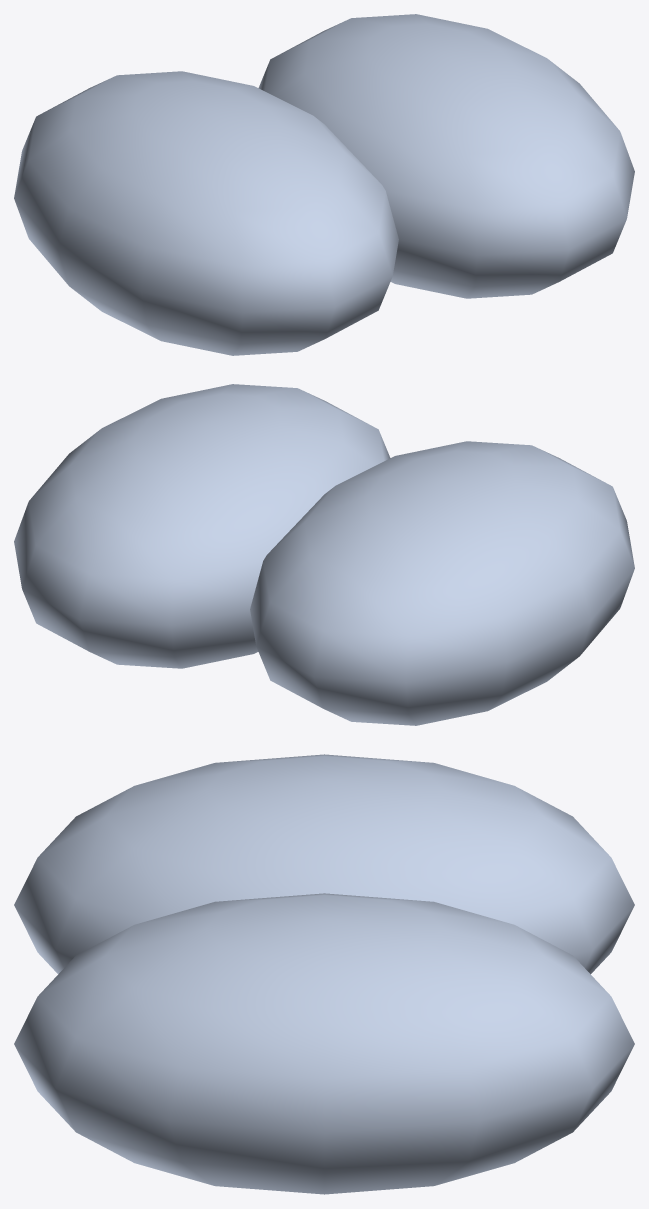
The model's file is footwear-chibi-02.glb.
The picture shows the model from 3 angles, top to bottom: view 1: azimuth 30°, elevation 25°; view 2: azimuth 150°, elevation 25°; view 3: azimuth 270°, elevation 25°; orthographic projection. The views are drawn at different scales.
Parts seen in each view (by area): view 1: part_0, part_1; view 2: part_0, part_1; view 3: part_1, part_0.
Part boxes in pixels (<box>): part_0: <box>14,71,398,355</box>; part_1: <box>258,14,634,298</box>; part_0: <box>250,441,634,725</box>; part_1: <box>14,384,390,668</box>; part_1: <box>14,893,634,1194</box>; part_0: <box>14,754,634,974</box>.
Size of the model in its own units: 0.82 by 0.3 by 0.68.
